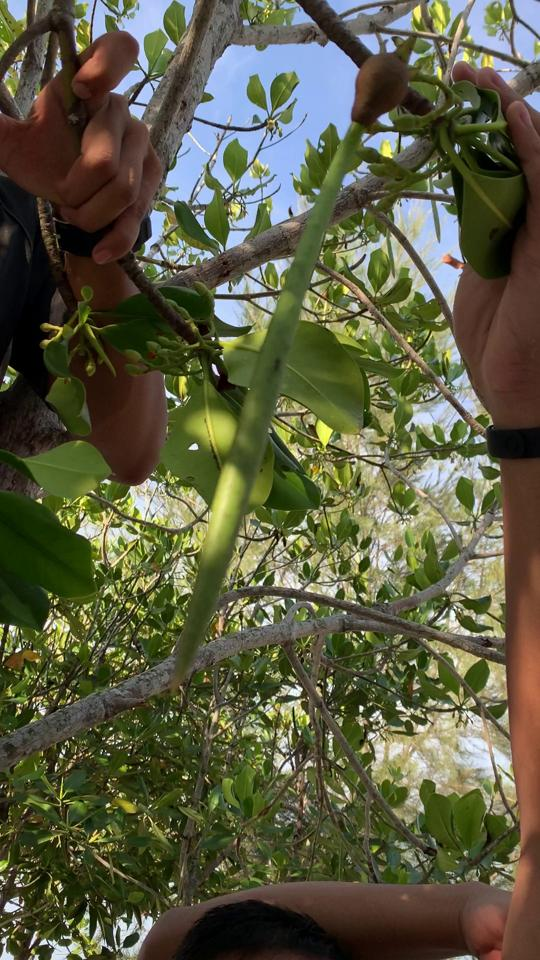mentah: (139, 18, 435, 718)
